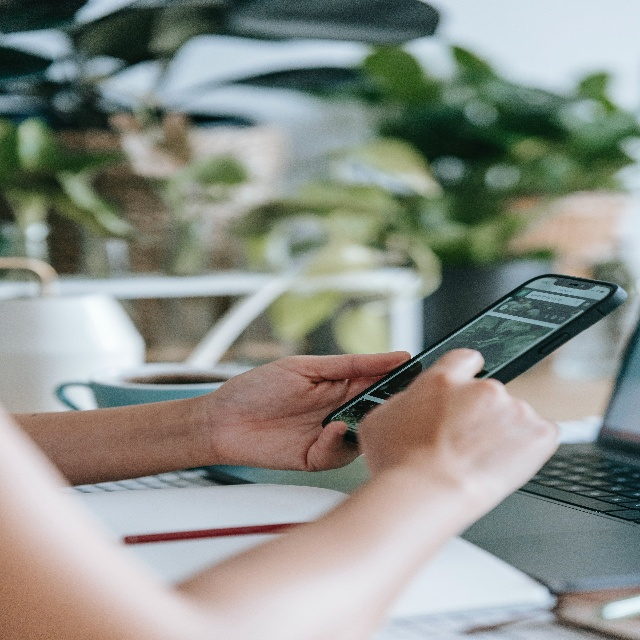Sin_guantes: (360, 346, 563, 534), (208, 354, 412, 472)
